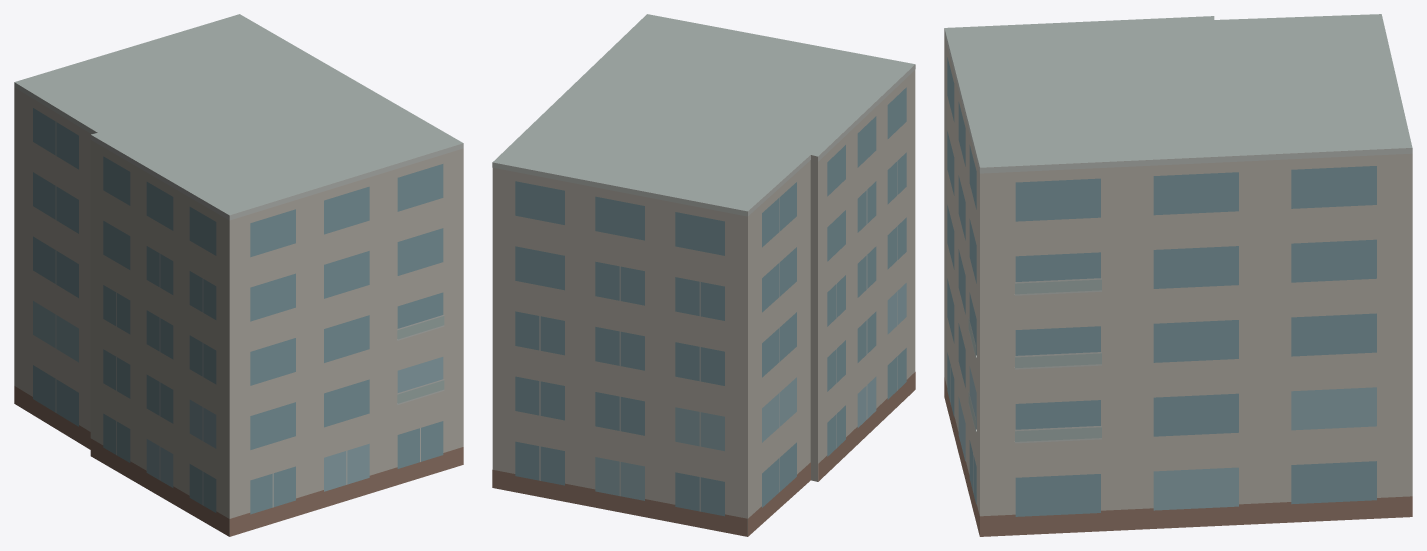
File: survey-upis-33011757.glb
The picture shows the model from 3 angles, left to right: view 1: azimuth 30°, elevation 25°; view 2: azimuth 150°, elevation 25°; view 3: azimuth 270°, elevation 25°; orthographic projection. The views are drawn at different scales.
Visible parts, largest first — view 1: survey-upis-33011757.tmp; view 2: survey-upis-33011757.tmp; view 3: survey-upis-33011757.tmp.
Part boxes in pixels (x1=…): survey-upis-33011757.tmp: x1=14, y1=14, x2=463, y2=536; survey-upis-33011757.tmp: x1=492, y1=14, x2=915, y2=536; survey-upis-33011757.tmp: x1=944, y1=14, x2=1412, y2=536.
Bounding box in the file's own units: 13.63 × 15.25 × 17.54.
